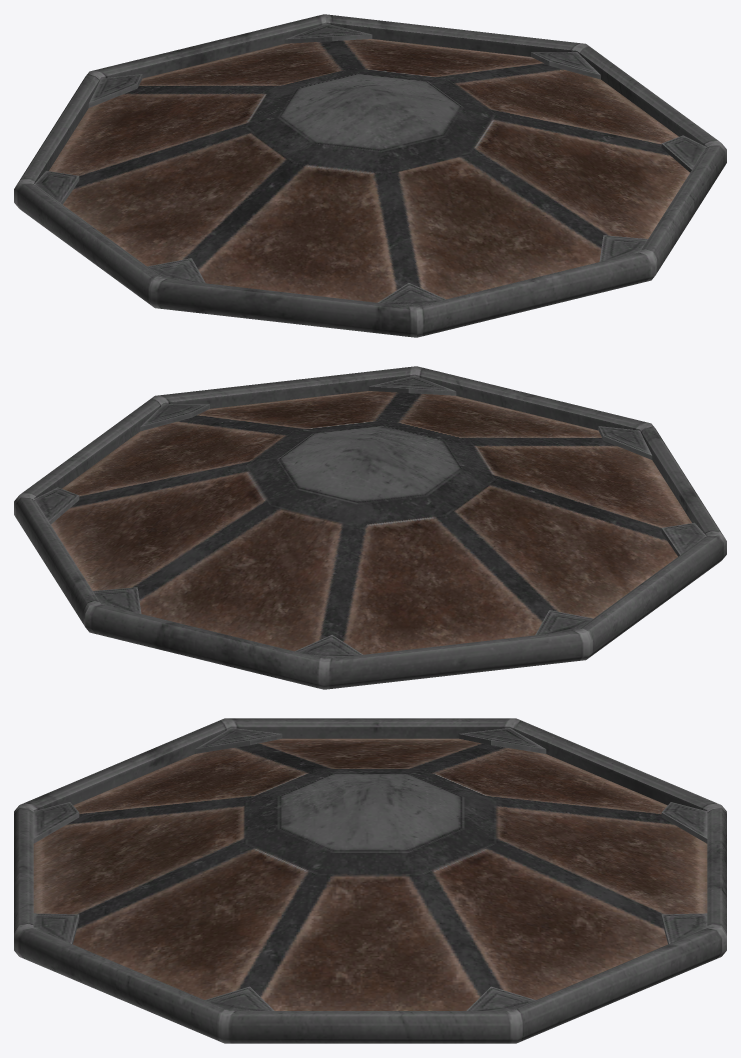
Rendered from sm_dwarf_erebor_shield_leather_c.fbx.
The picture shows the model from 3 angles, top to bottom: view 1: azimuth 30°, elevation 25°; view 2: azimuth 150°, elevation 25°; view 3: azimuth 270°, elevation 25°; orthographic projection. The views are drawn at different scales.
Parts seen in each view (by area): view 1: sm_dwarf_erebor_shield_leather_c; view 2: sm_dwarf_erebor_shield_leather_c; view 3: sm_dwarf_erebor_shield_leather_c.
Part boxes in pixels (box(x1,y1,x2,y2)): sm_dwarf_erebor_shield_leather_c: box(14, 14, 726, 337); sm_dwarf_erebor_shield_leather_c: box(14, 366, 726, 689); sm_dwarf_erebor_shield_leather_c: box(14, 718, 726, 1043).
Size of the model in its own units: 0.6475 by 0.6475 by 0.1447.
1 material, 1 textured.
